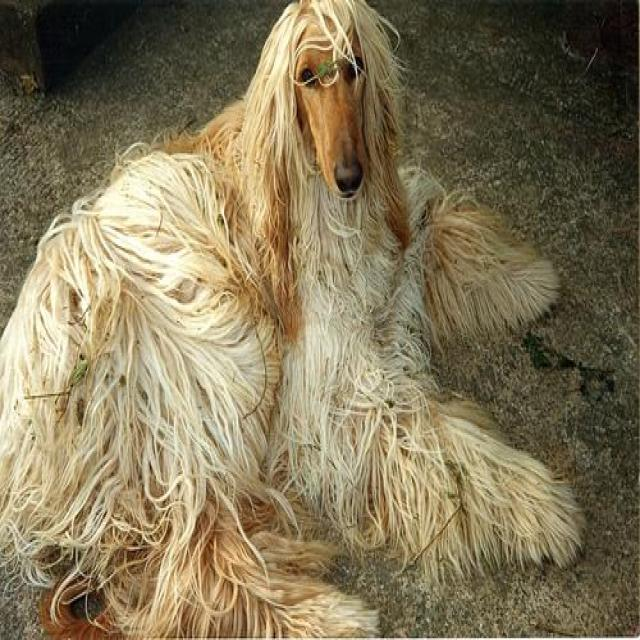afghan_hound: (0, 0, 585, 638)
